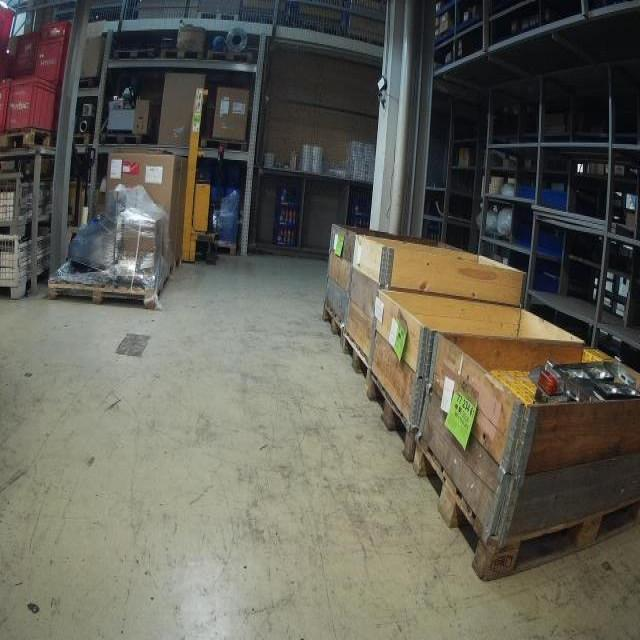pallet: (415, 436, 640, 585), (370, 372, 417, 467), (46, 279, 171, 309), (343, 330, 370, 398), (0, 125, 57, 151), (320, 300, 343, 351), (201, 134, 250, 154), (159, 46, 207, 62), (208, 49, 256, 65), (100, 131, 144, 146), (114, 48, 158, 61), (69, 129, 91, 147), (166, 253, 181, 278), (213, 241, 236, 257)
pallet_truck: (68, 139, 98, 239)
small_load_carrier: (7, 74, 61, 140), (41, 14, 70, 87), (21, 29, 45, 82), (0, 76, 12, 133), (0, 4, 12, 45)
stillage: (4, 224, 77, 306), (1, 171, 69, 222)
